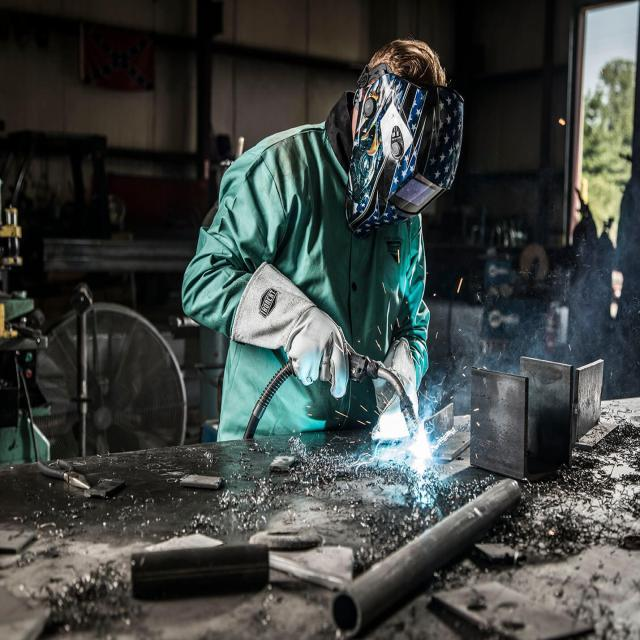with_helmet: (346, 65, 463, 233)
